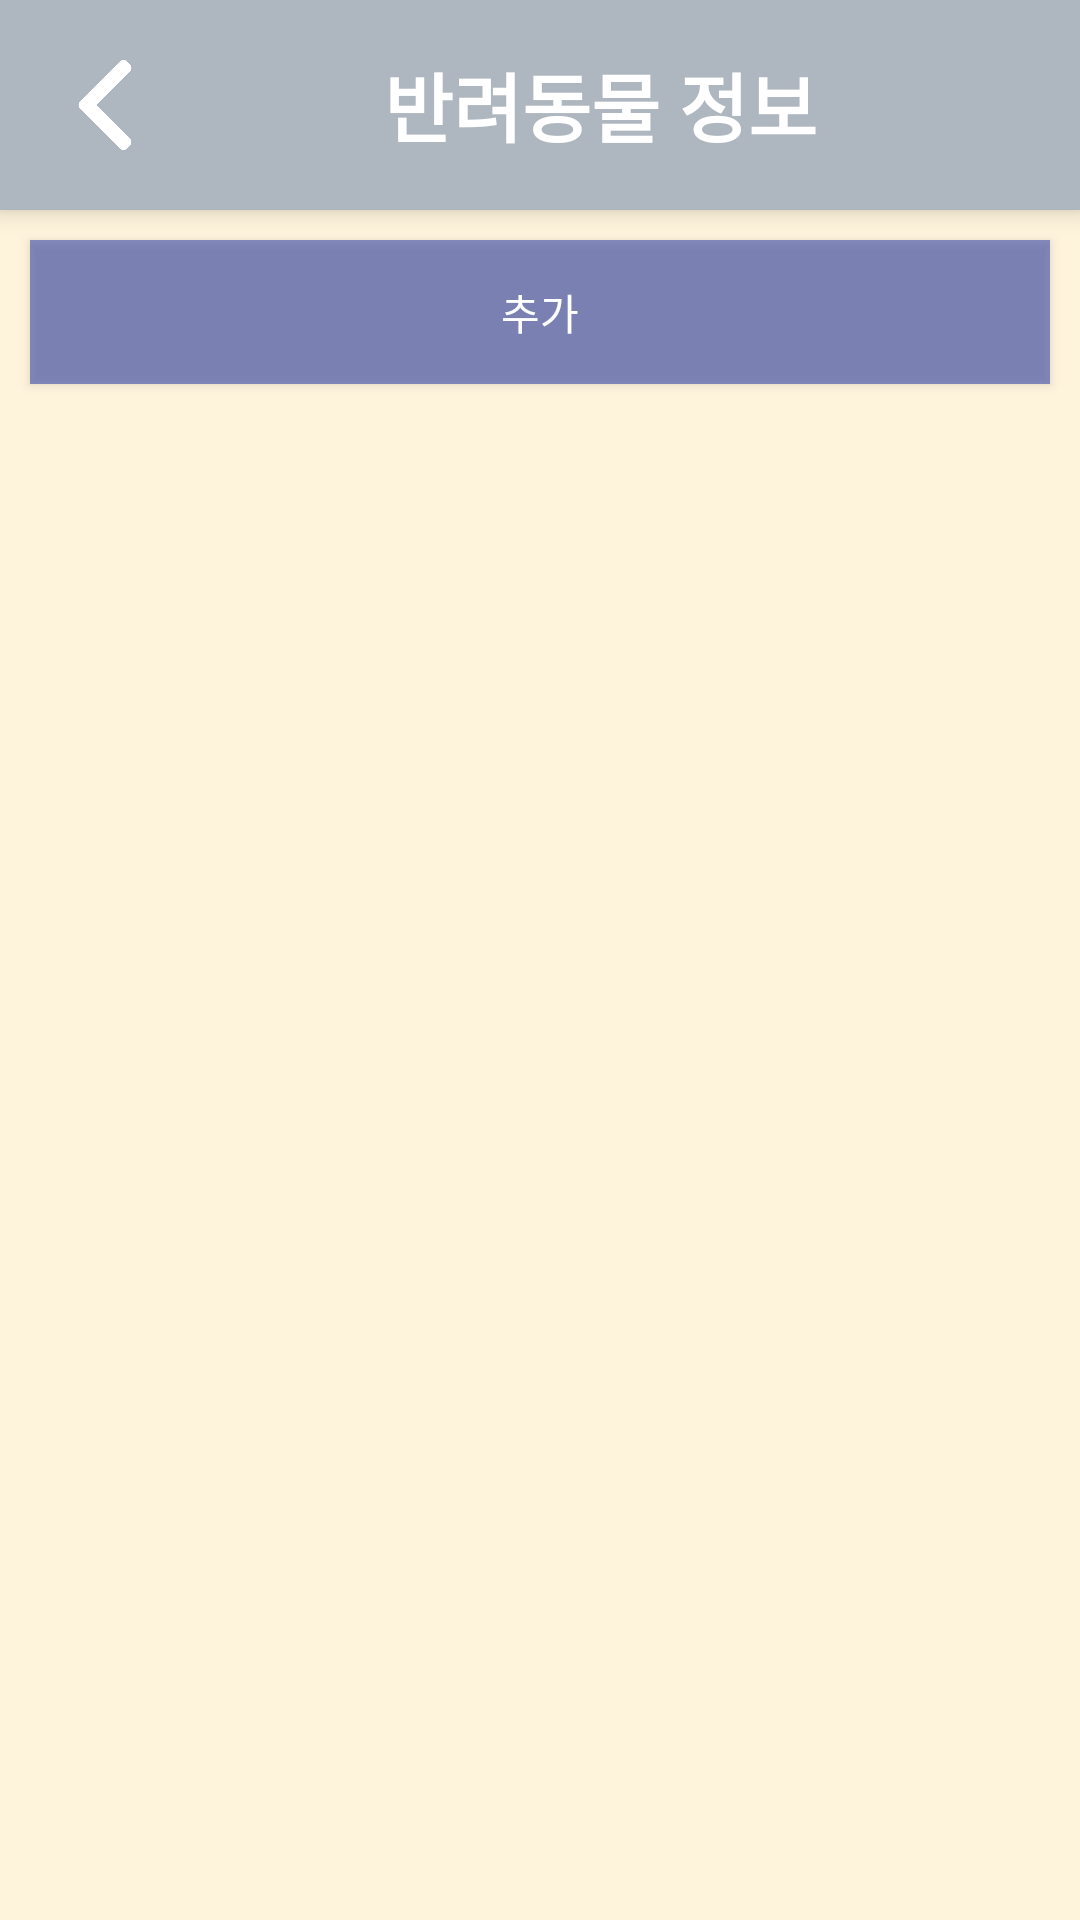

Icon click points for this 1080w x 1920h phone screenshot, format (x,y):
leftarrow: (105,105)
